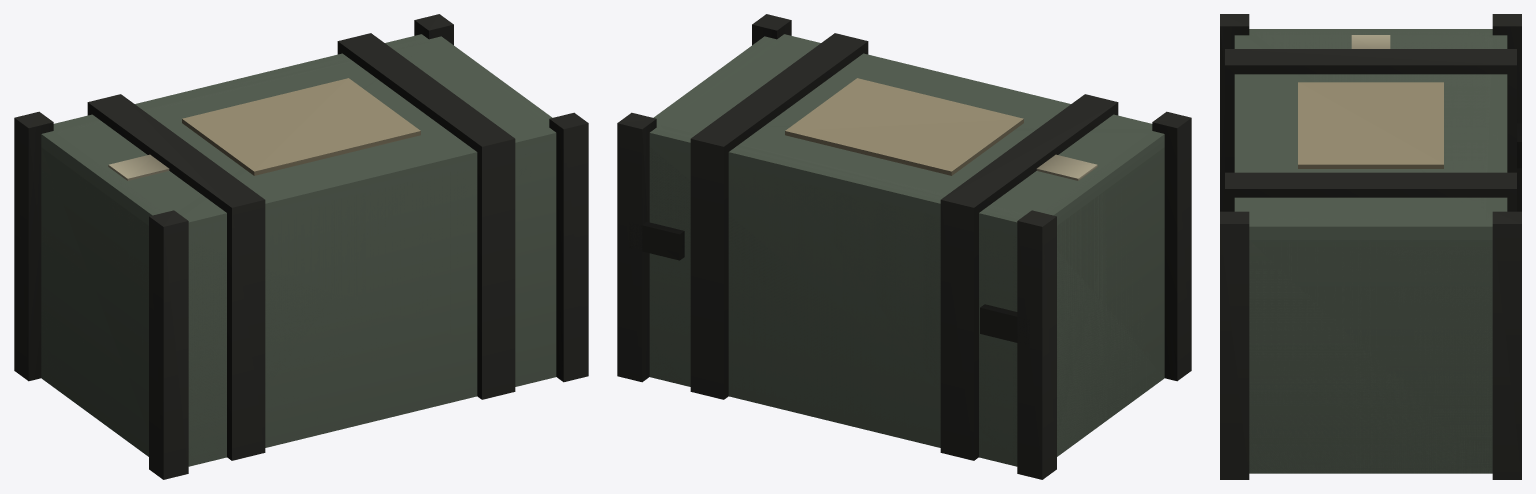
Rendered from neutral_evidence_crate.glb.
3 views of the same model, side by side, from view 1: azimuth 30°, elevation 25°; view 2: azimuth 150°, elevation 25°; view 3: azimuth 270°, elevation 25° (orthographic).
Visible parts, largest first — view 1: body (×3); view 2: body (×3); view 3: body (×3).
Part boxes in pixels (<box>): body (×3): <box>14,14,588,479</box>; body (×3): <box>617,14,1191,479</box>; body (×3): <box>1220,14,1521,479</box>.
Bounding box in the file's own units: 1.02 × 0.58 × 0.62.
